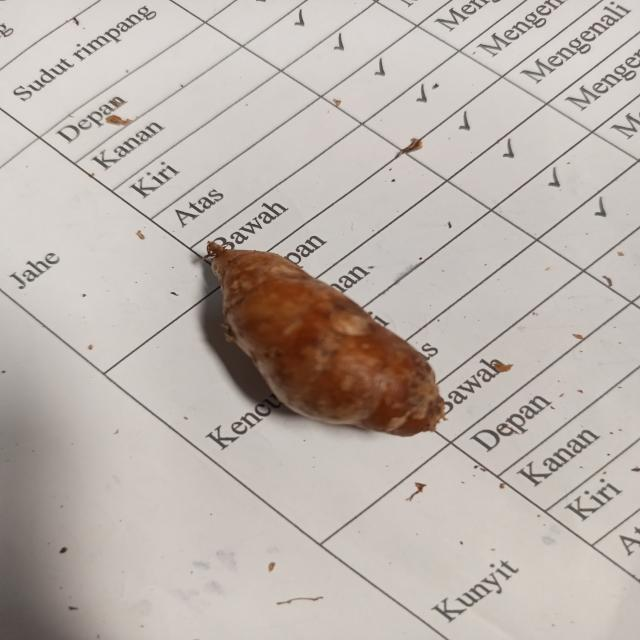ginger: (212, 238, 450, 426)
